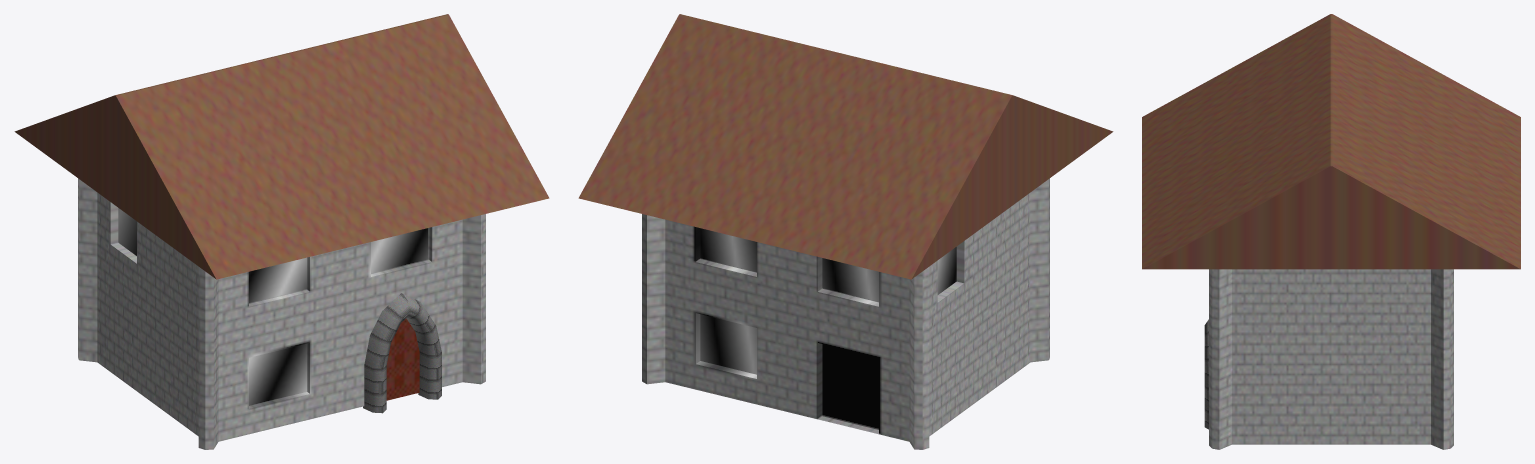
Rendered from house2.fbx.
The picture shows the model from 3 angles, left to right: view 1: azimuth 30°, elevation 25°; view 2: azimuth 150°, elevation 25°; view 3: azimuth 270°, elevation 25°; orthographic projection. The views are drawn at different scales.
Visible parts, largest first — view 1: Box001, Cylinder001; view 2: Box001; view 3: Box001, Cylinder001.
Boxes of the visible parts, <box> form: Box001: <box>14,14,549,449</box>; Cylinder001: <box>363,293,441,413</box>; Box001: <box>578,14,1113,449</box>; Box001: <box>1142,14,1520,449</box>; Cylinder001: <box>1204,319,1208,429</box>.
Bounding box in the file's own units: 106 × 95.97 × 111.
Materials: 2 (2 with a texture image).
